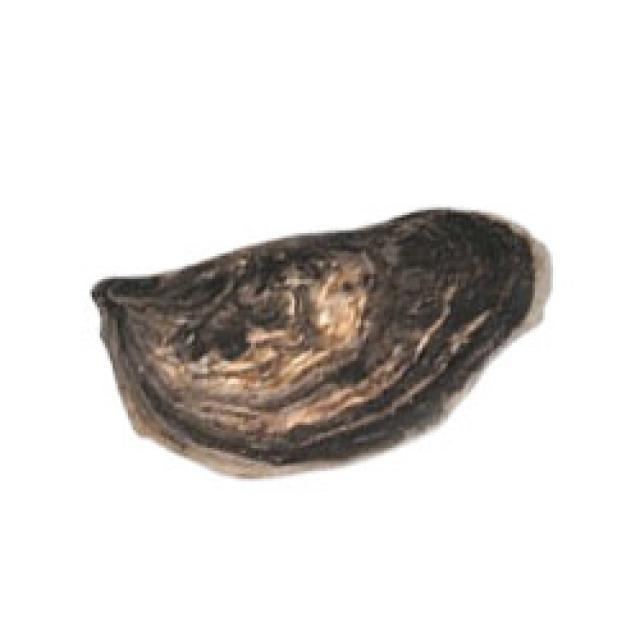Oyster- Indeterminate: (82, 200, 560, 492)
